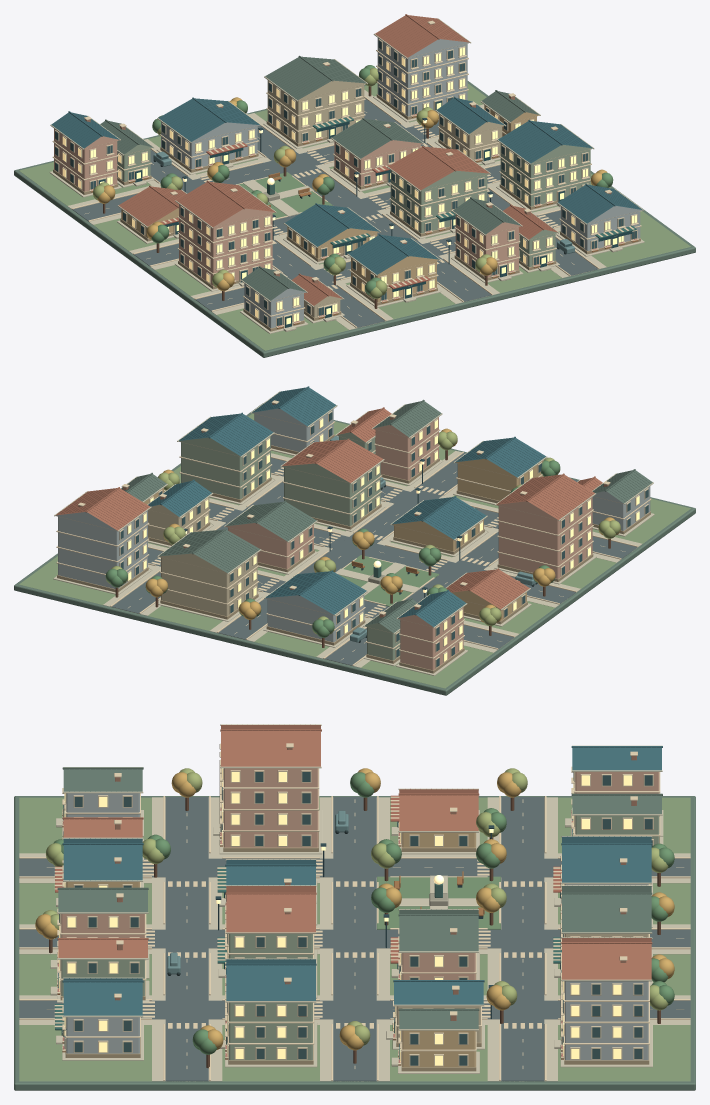
The model's file is town.glb.
The picture shows the model from 3 angles, top to bottom: view 1: azimuth 30°, elevation 25°; view 2: azimuth 150°, elevation 25°; view 3: azimuth 270°, elevation 25°; orthographic projection. The views are drawn at different scales.
Parts seen in each view (by area): view 1: Surface Ivory trim, Surface Slate road, Meadow, Surface Warm limestone, Surface Facade 1, Surface Facade 3, Surface Warm window, District plinth, Surface Roof 0, Surface Facade 2, Surface Roof 2, Surface Window shade (+32 smaller); view 2: Surface Slate road, Surface Ivory trim, Surface Facade 1, Surface Facade 3, Meadow, Surface Warm limestone, Surface Facade 2, District plinth, Surface Roof 0, Surface Facade 4, Surface Roof 2, Surface Roof 1 (+28 smaller); view 3: Surface Slate road, Surface Warm limestone, Meadow, Surface Ivory trim, District plinth, Surface Facade 1, Surface Facade 3, Surface Facade 2, Surface Gutter, Surface Roof 0, Surface Window shade, Surface Roof 2 (+32 smaller).
Boxes of the visible parts, box(x1,y1,x2,y2) form: Surface Ivory trim: box(52, 20, 641, 327); Surface Slate road: box(72, 98, 597, 327); Meadow: box(19, 83, 690, 350); Surface Warm limestone: box(49, 90, 644, 333); Surface Facade 1: box(54, 128, 518, 285); Surface Facade 3: box(161, 38, 640, 328); Surface Warm window: box(62, 46, 636, 324); District plinth: box(14, 81, 695, 357); Surface Roof 0: box(53, 96, 639, 273); Surface Facade 2: box(117, 143, 590, 266); Surface Roof 2: box(120, 14, 555, 304); Surface Window shade: box(55, 40, 636, 325); Surface Slate road: box(112, 452, 637, 665); Surface Ivory trim: box(56, 400, 651, 668); Surface Facade 1: box(228, 417, 592, 670); Surface Facade 3: box(58, 409, 650, 642); Meadow: box(19, 413, 690, 688); Surface Warm limestone: box(53, 425, 654, 675); Surface Facade 2: box(181, 436, 400, 660); District plinth: box(14, 403, 695, 695); Surface Roof 0: box(148, 386, 544, 625); Surface Facade 4: box(148, 497, 257, 616); Surface Roof 2: box(57, 407, 600, 607); Surface Roof 1: box(122, 399, 650, 631); Surface Slate road: box(19, 797, 690, 1081); Surface Warm limestone: box(19, 797, 690, 1081); Meadow: box(19, 797, 690, 1081); Surface Ivory trim: box(19, 743, 690, 1081); District plinth: box(14, 796, 695, 1090); Surface Facade 1: box(61, 768, 659, 979); Surface Facade 3: box(66, 793, 648, 1060); Surface Facade 2: box(61, 815, 659, 1060); Surface Gutter: box(57, 724, 662, 1030); Surface Roof 0: box(62, 746, 662, 1015); Surface Window shade: box(59, 772, 652, 1065); Surface Roof 2: box(57, 724, 652, 979).
Bounding box in the file's own units: 65 × 11.69 × 65.
